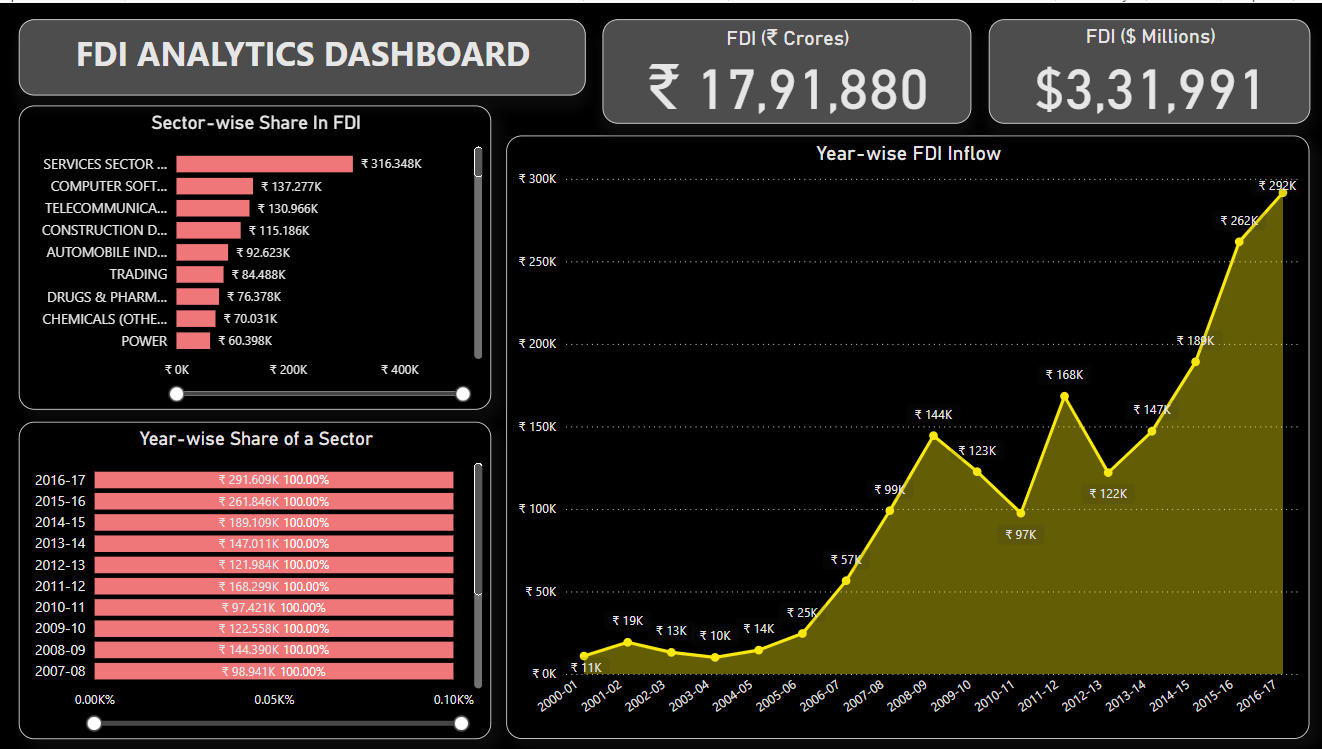

Layout of this report page (visuals, bound fields, positions):
{"tool":"powerbi","page":{"name":"Sector-wise & Year-wise  FDI Inflow","canvas":[1280,720],"ordinal":0},"visuals":[{"type":"areaChart","title":"Year-wise FDI Inflow","fields":{"Category":["Sheet1.Year"],"Y":["Sum(Sheet1.FDI(₹ Crores))"]},"box":[489,127.6,775.3,582.5],"z":0},{"type":"hundredPercentStackedBarChart","title":"Year-wise Share of a Sector","fields":{"Y":["Sum(Sheet1.FDI(₹ Crores))"],"Category":["Sheet1.Year"]},"box":[18.4,403.9,456.4,306.1],"z":1000},{"type":"card","title":"FDI (₹ Crores)","fields":{"Values":["Imp Insights.Total FDI"]},"box":[581.1,15.6,355.7,100.6],"z":2000},{"type":"card","title":"FDI ($ Millions)","fields":{"Values":["Sum(Sheet1.FDI(US$ Million))"]},"box":[953.9,15.6,310.4,100.6],"z":3000},{"type":"textbox","box":[18.4,15.6,547.1,73.7],"z":5000},{"type":"barChart","title":"Sector-wise Share In FDI","fields":{"Category":["FDI.Sector"],"Y":["Imp Insights.Total FDI"]},"box":[18.4,99.2,456.4,293.4],"z":6000}]}

Visuals, with their boxes in screenshot pixels (x1, y1, x2, y2), scaled from the page's 1280x720 canvas onto the 1322x749 screenshot:
"Year-wise FDI Inflow" areaChart: [left=505, top=133, right=1306, bottom=739]
"Year-wise Share of a Sector" hundredPercentStackedBarChart: [left=19, top=420, right=490, bottom=739]
"FDI (₹ Crores)" card: [left=600, top=16, right=968, bottom=121]
"FDI ($ Millions)" card: [left=985, top=16, right=1306, bottom=121]
textbox: [left=19, top=16, right=584, bottom=93]
"Sector-wise Share In FDI" barChart: [left=19, top=103, right=490, bottom=408]
